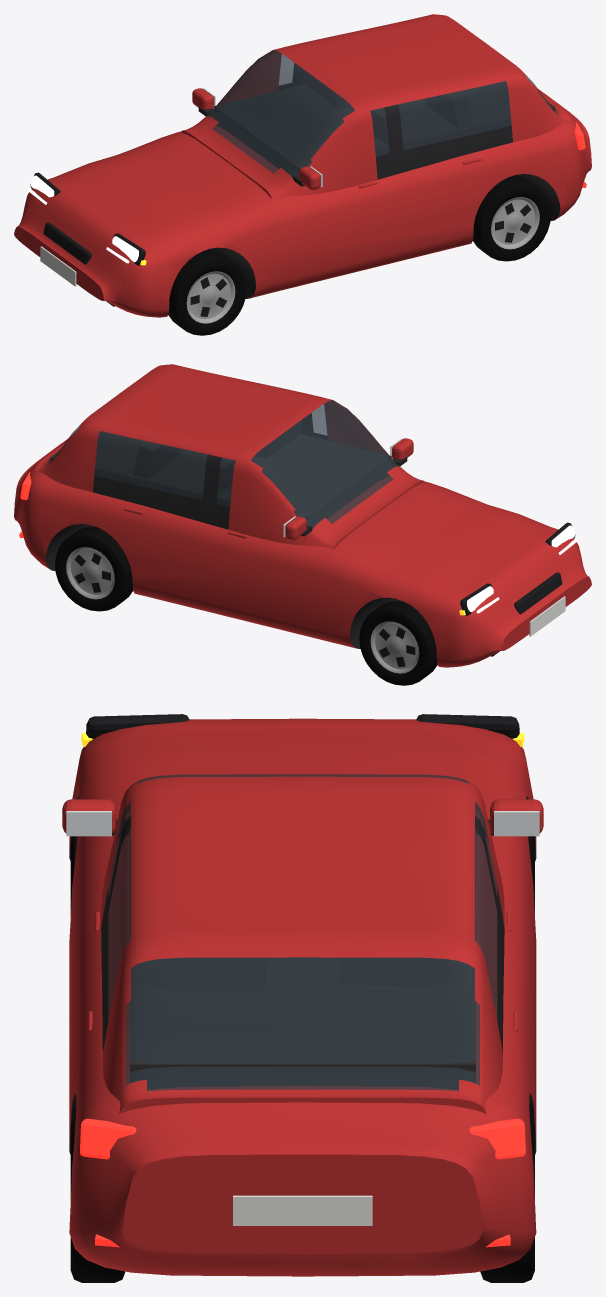
The model's file is hatchback.glb.
3 views of the same model, one above another, from view 1: azimuth 30°, elevation 25°; view 2: azimuth 150°, elevation 25°; view 3: azimuth 270°, elevation 25° (orthographic). The views are drawn at different scales.
Parts seen in each view (by area): view 1: hatchback-body, wheel-fr, wheel-rr; view 2: hatchback-body, wheel-fl, wheel-rl; view 3: hatchback-body, wheel-rr, wheel-rl.
Part boxes in pixels (left/top/right/bottom): hatchback-body: left=14, top=14, right=591, bottom=317; wheel-fr: left=168, top=251, right=246, bottom=335; wheel-rr: left=472, top=176, right=550, bottom=261; hatchback-body: left=14, top=364, right=591, bottom=667; wheel-fl: left=359, top=601, right=437, bottom=685; wheel-rl: left=55, top=526, right=133, bottom=611; hatchback-body: left=62, top=714, right=543, bottom=1276; wheel-rr: left=70, top=1116, right=125, bottom=1282; wheel-rl: left=480, top=1116, right=534, bottom=1282.
Size of the model in its own units: 4.22 by 1.47 by 1.79.
13 materials, 2 textured.
